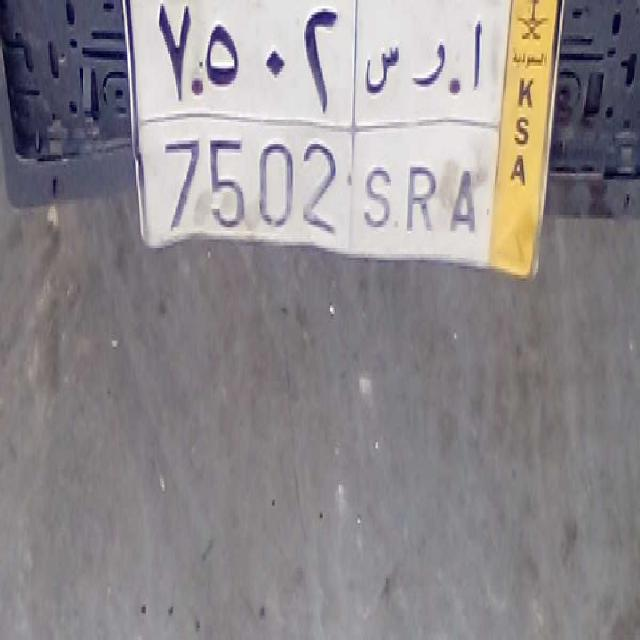license_plate: (138, 116, 495, 263)
